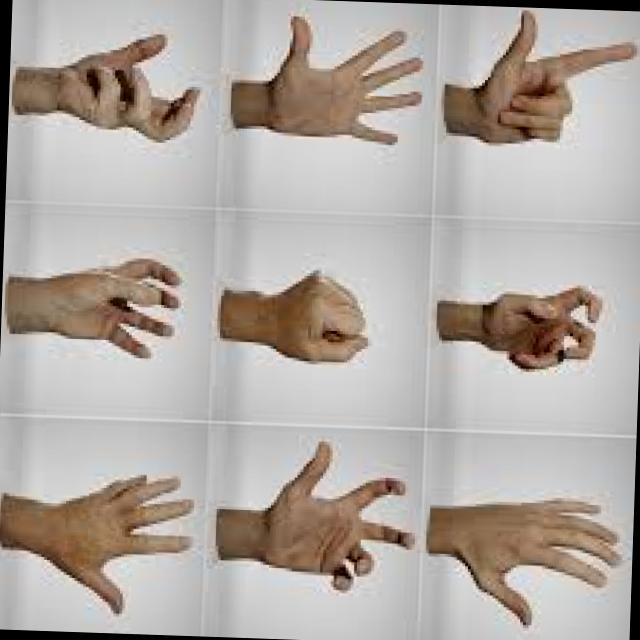Hand: (13, 450, 198, 629), (220, 9, 432, 158), (437, 7, 640, 160), (418, 489, 628, 633), (6, 26, 207, 153), (429, 273, 611, 383), (30, 250, 186, 370), (265, 266, 377, 370)
